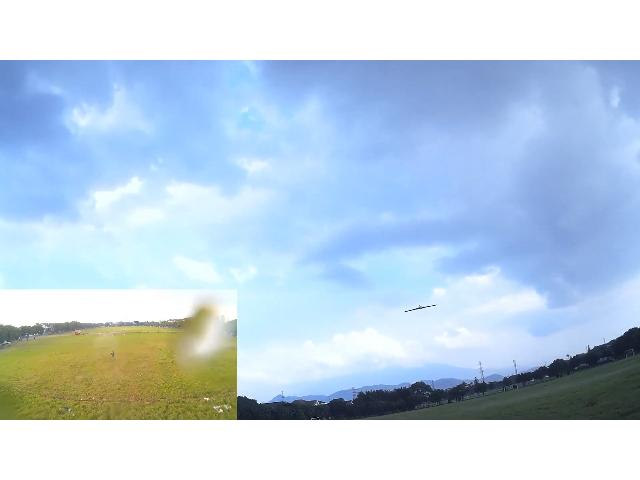Anti-Drone: (405, 304, 437, 311)
